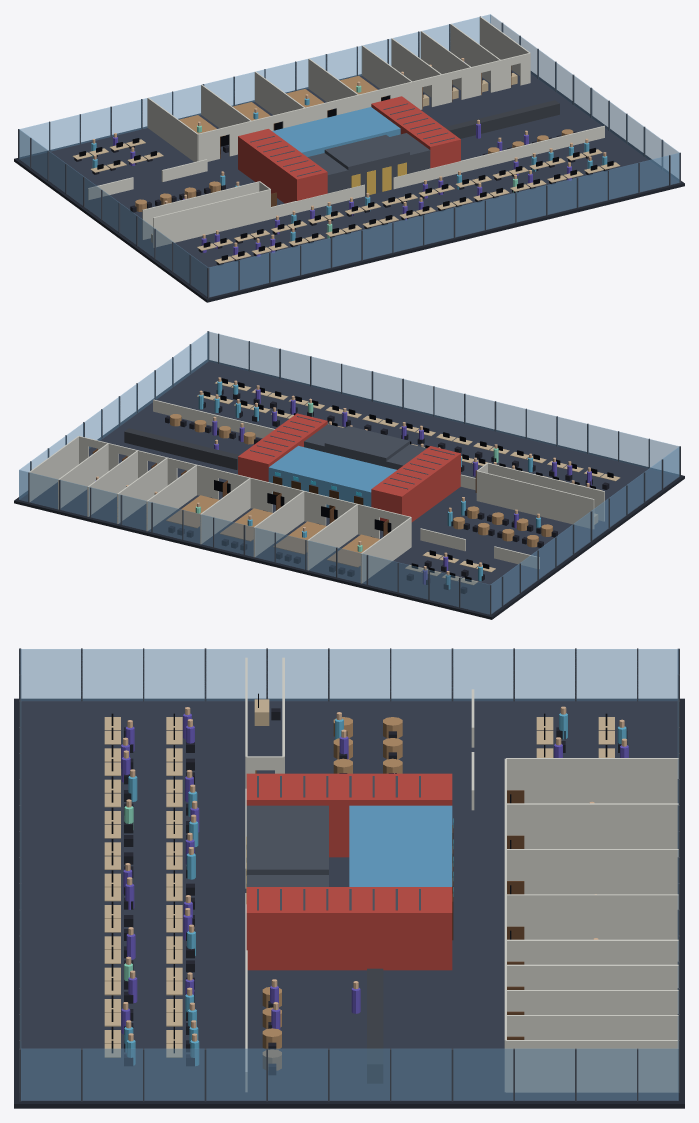
3 renders of one model, top to bottom at view 1: azimuth 30°, elevation 25°; view 2: azimuth 150°, elevation 25°; view 3: azimuth 270°, elevation 25°, orthographic. The views are drawn at different scales.
Parts seen in each view (by area): view 1: L11_floor_carpet, L11_glass, L11_wall, L11_core, L11_stair, L11_desk, L11_slab, L11_wash, L11_screen, L11_table, L11_counter, L11_chair (+4 smaller); view 2: L11_glass, L11_floor_carpet, L11_wall, L11_core, L11_stair, L11_slab, L11_table, L11_wash, L11_chair, L11_desk, L11_screen, L11_counter (+3 smaller); view 3: L11_floor_carpet, L11_glass, L11_wall, L11_stair, L11_core, L11_desk, L11_slab, L11_wash, L11_role_manager, L11_chair, L11_table, L11_role_analyst (+4 smaller).
Part boxes in pixels (<box>): L11_floor_carpet: <box>19,70,679,297</box>; L11_glass: <box>19,14,679,296</box>; L11_wall: <box>88,17,604,247</box>; L11_core: <box>18,16,680,298</box>; L11_stair: <box>238,96,460,203</box>; L11_desk: <box>72,73,620,263</box>; L11_slab: <box>14,71,684,302</box>; L11_wash: <box>272,107,400,156</box>; L11_screen: <box>79,71,613,260</box>; L11_table: <box>135,76,573,211</box>; L11_counter: <box>444,100,559,138</box>; L11_chair: <box>74,78,609,265</box>; L11_glass: <box>19,331,679,614</box>; L11_floor_carpet: <box>19,361,679,614</box>; L11_wall: <box>28,399,604,583</box>; L11_core: <box>28,331,680,615</box>; L11_stair: <box>238,413,460,522</box>; L11_slab: <box>14,360,684,619</box>; L11_table: <box>166,414,552,567</box>; L11_wash: <box>268,445,396,507</box>; L11_chair: <box>165,389,609,593</box>; L11_desk: <box>197,380,620,585</box>; L11_screen: <box>203,378,613,581</box>; L11_counter: <box>124,428,239,469</box>; L11_floor_carpet: <box>21,700,678,1101</box>; L11_glass: <box>20,649,678,1100</box>; L11_wall: <box>245,657,678,1092</box>; L11_stair: <box>246,773,452,970</box>; L11_core: <box>19,648,679,1101</box>; L11_desk: <box>104,699,614,1057</box>; L11_slab: <box>14,698,684,1108</box>; L11_wash: <box>349,805,452,886</box>; L11_role_manager: <box>121,713,628,1034</box>; L11_chair: <box>124,708,627,1075</box>; L11_table: <box>262,717,402,1070</box>; L11_role_analyst: <box>124,713,626,1065</box>.
Size of the model in its own units: 46.6 by 3.37 by 32.6.
